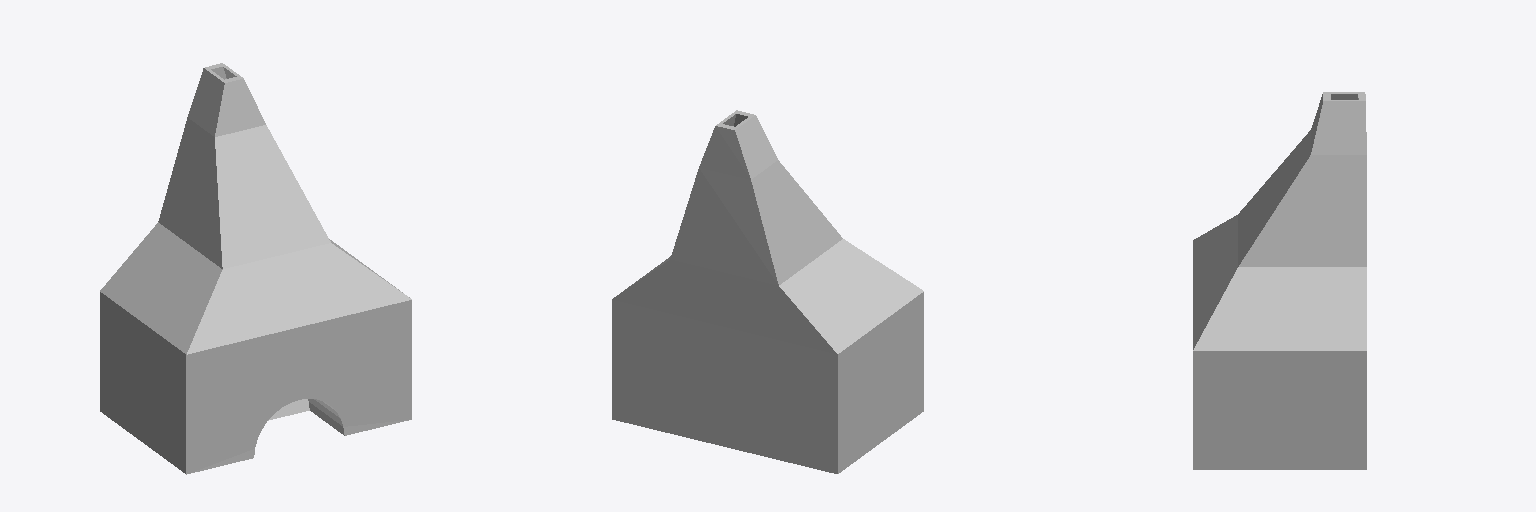
Rendered from blastfurnace.obj.
3 renders of one model, left to right at view 1: azimuth 30°, elevation 25°; view 2: azimuth 150°, elevation 25°; view 3: azimuth 270°, elevation 25°, orthographic.
Size of the model in its own units: 1.97 by 2.66 by 1.31.